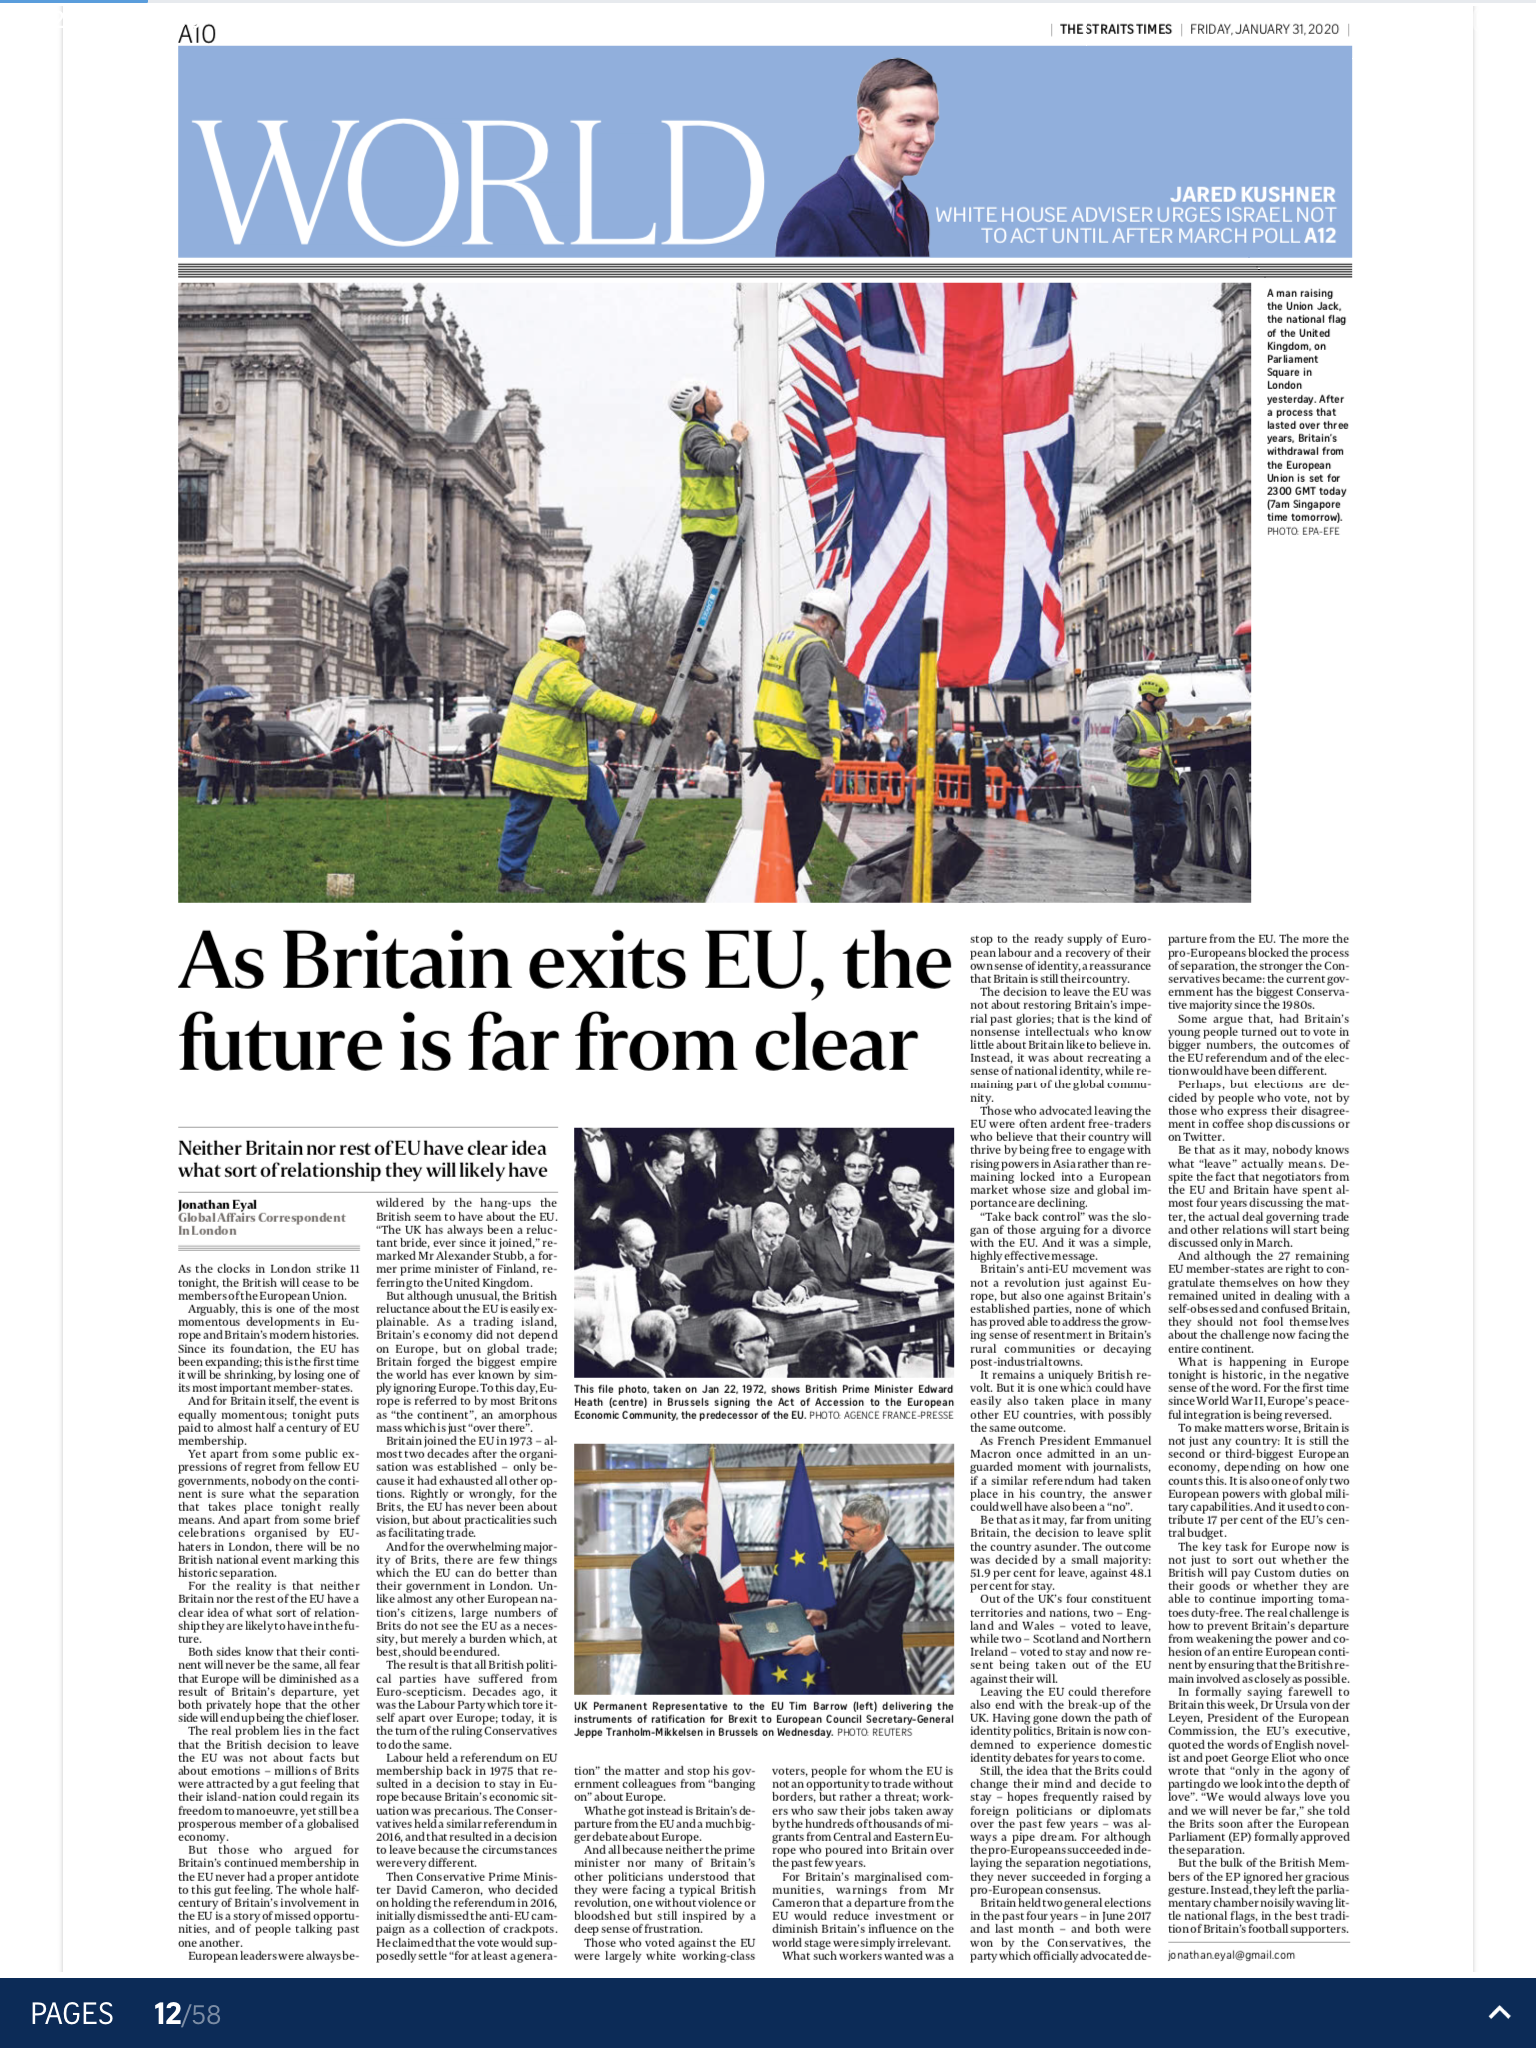Byline: (177, 1197, 352, 1238)
Headline: (182, 932, 954, 1074)
Illustration: (1265, 284, 1350, 539), (573, 1696, 960, 1743), (573, 1384, 954, 1429)
Image: (181, 284, 1254, 903), (574, 1442, 954, 1693), (574, 1129, 950, 1377)
Text: (968, 934, 1154, 1966), (1168, 935, 1354, 1938), (378, 1198, 558, 1967), (174, 1263, 363, 1963), (766, 1763, 949, 1966), (573, 1763, 753, 1966)
